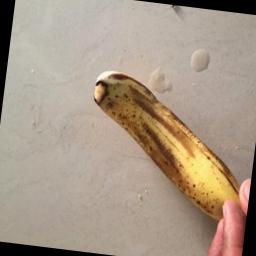Banana Ripe: (62, 54, 256, 227)
